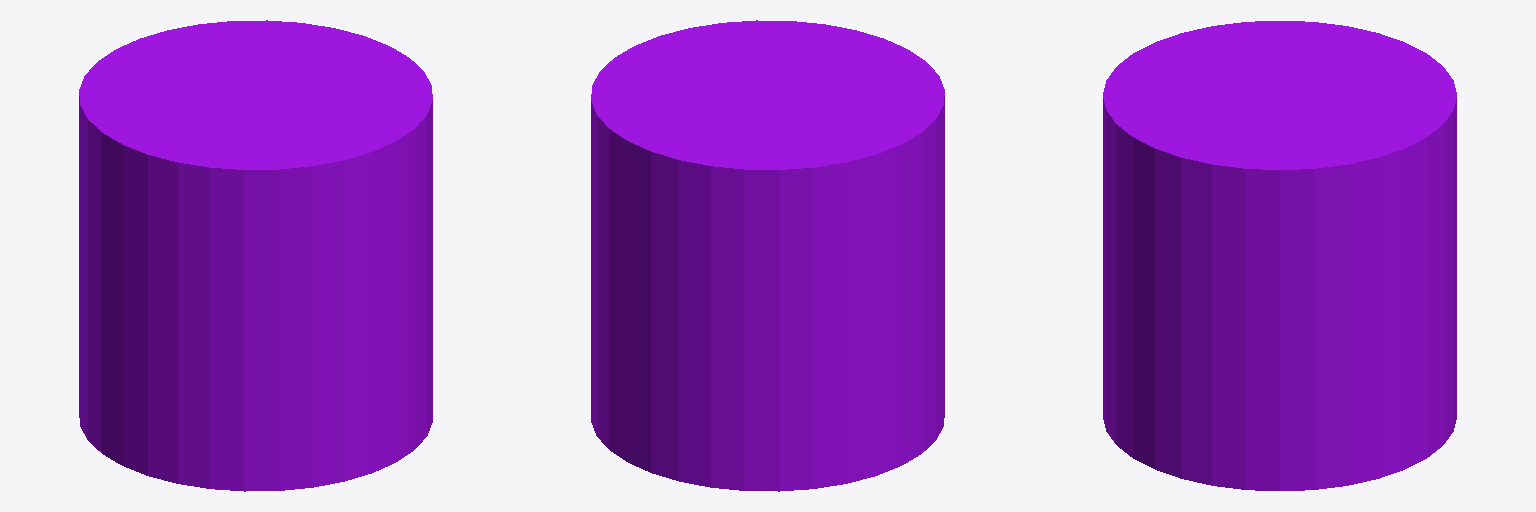
robot.urdf — red_can:
<robot name="red_can">

  <link name="can">
  	<inertial>
      <mass value="0.01"/>
      <inertia ixx="1.0" ixy="0.0" ixz="0.0" iyy="1.0" iyz="0.0" izz="1.0"/>
    </inertial>
 		<visual>
 			<origin rpy="0 0 0" xyz="0 0 0"/>
	    <geometry>
	      <cylinder length="0.15" radius="0.075"/>
	    </geometry>
	    <material name = "red">
	     	<color rgba=".7 0.1 0.99 1"/>
	  	</material>
	  </visual>
    <collision>
    	<origin rpy="0 0 0" xyz="0 0 0"/>
      <geometry>
        <cylinder length="0.15" radius="0.075"/>
      </geometry>
    </collision>
  </link>

</robot>

--- Facts derived from the render (not from the file) ---
3 views of the same robot in one strip: view 1: azimuth 30°, elevation 25°; view 2: azimuth 150°, elevation 25°; view 3: azimuth 270°, elevation 25° (orthographic).
Model red_can with 1 links and 0 joints (none), rooted at can, posed every joint at zero.
Visible links, largest first — view 1: can; view 2: can; view 3: can.
Boxes of the visible links, x1,y1,x2,y2 form: can: [79, 20, 432, 491]; can: [591, 20, 944, 491]; can: [1103, 21, 1456, 490].
Bounding box of the posed robot: 0.15 × 0.15 × 0.15 m (x, y, z).
Geometry: primitives only (box / cylinder / sphere), no mesh files.